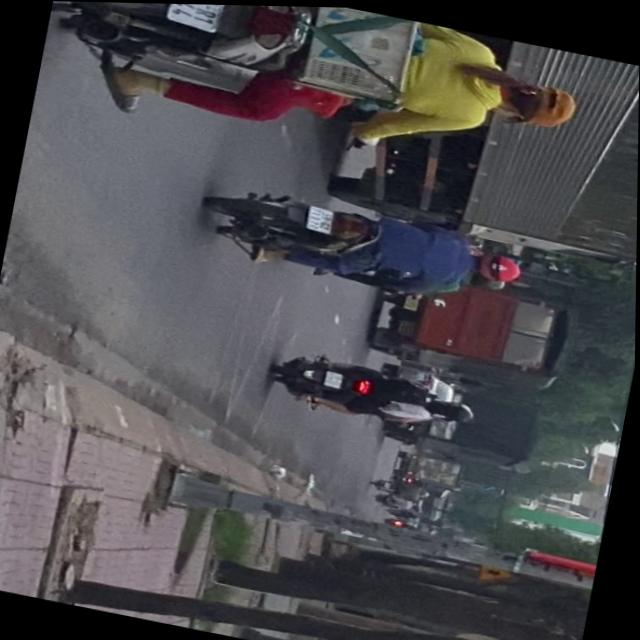helmet: (471, 245, 525, 284), (431, 397, 470, 422)
licenseplate: (34, 1, 590, 191), (195, 171, 531, 316), (261, 339, 483, 442)
motorcyclist: (488, 68, 580, 132)
nohelmet: (167, 3, 228, 31), (306, 203, 336, 231), (324, 369, 344, 386)
